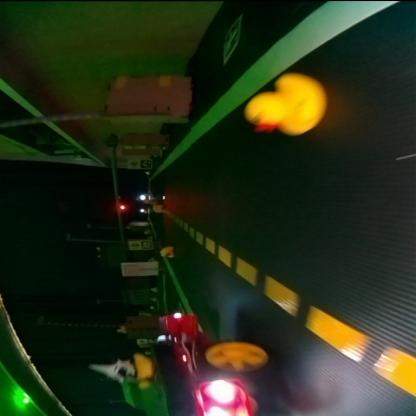Duckie: (246, 73, 325, 136), (160, 247, 174, 257), (152, 204, 164, 212)
Duckiebot: (151, 312, 270, 415)
Intersection sign: (127, 158, 139, 168)
QR code: (222, 18, 241, 62), (139, 158, 151, 168), (140, 240, 150, 248)
Signal sign: (128, 242, 140, 249)
Traffic light: (118, 204, 126, 210)
